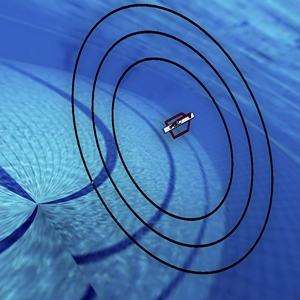circle: (57, 2, 286, 278)
submarine: (155, 102, 202, 151)
